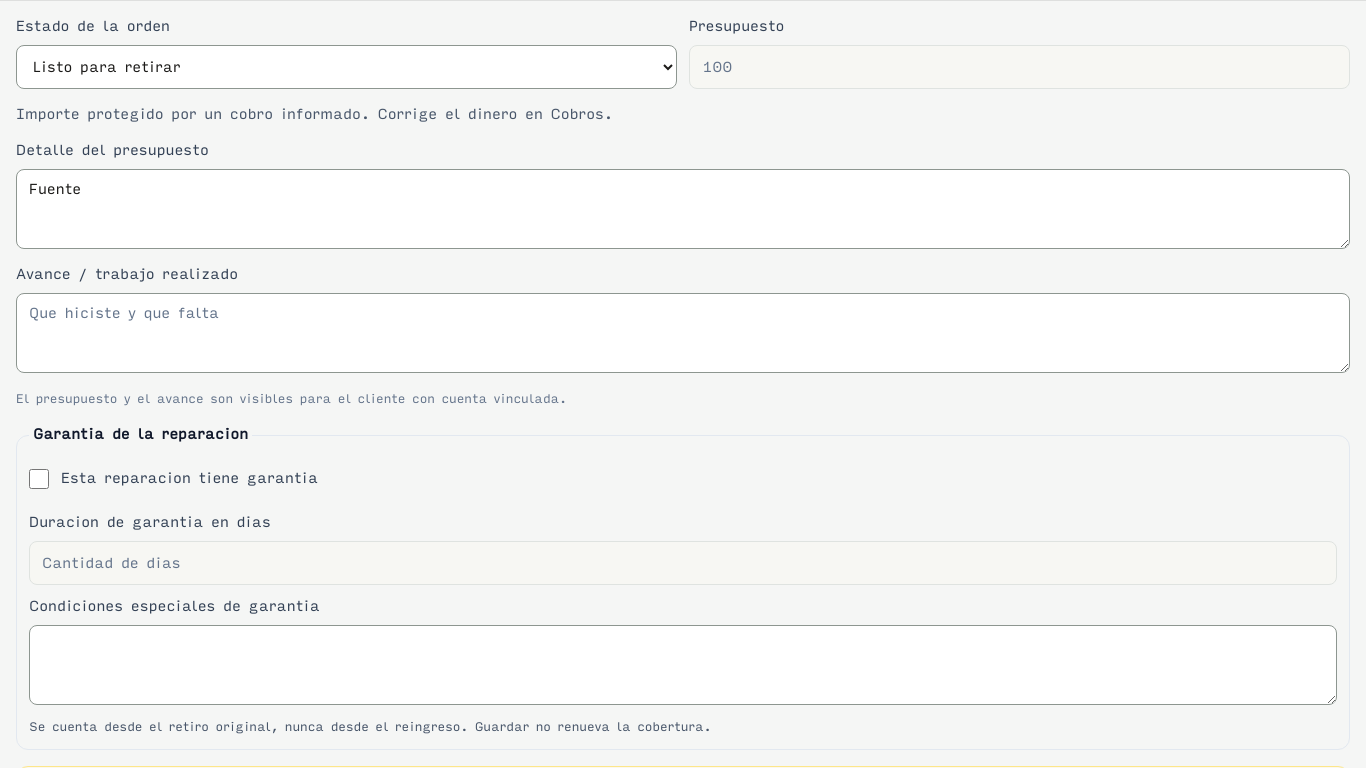
Test: editor unico de reparaciones › conserva persona, notas y confirmacion al salir y volver a la opcion de retiro
Select "Retirado por cliente" in the dropdown labelled "Estado de la orden" at (346, 67), box [16,45,677,89]
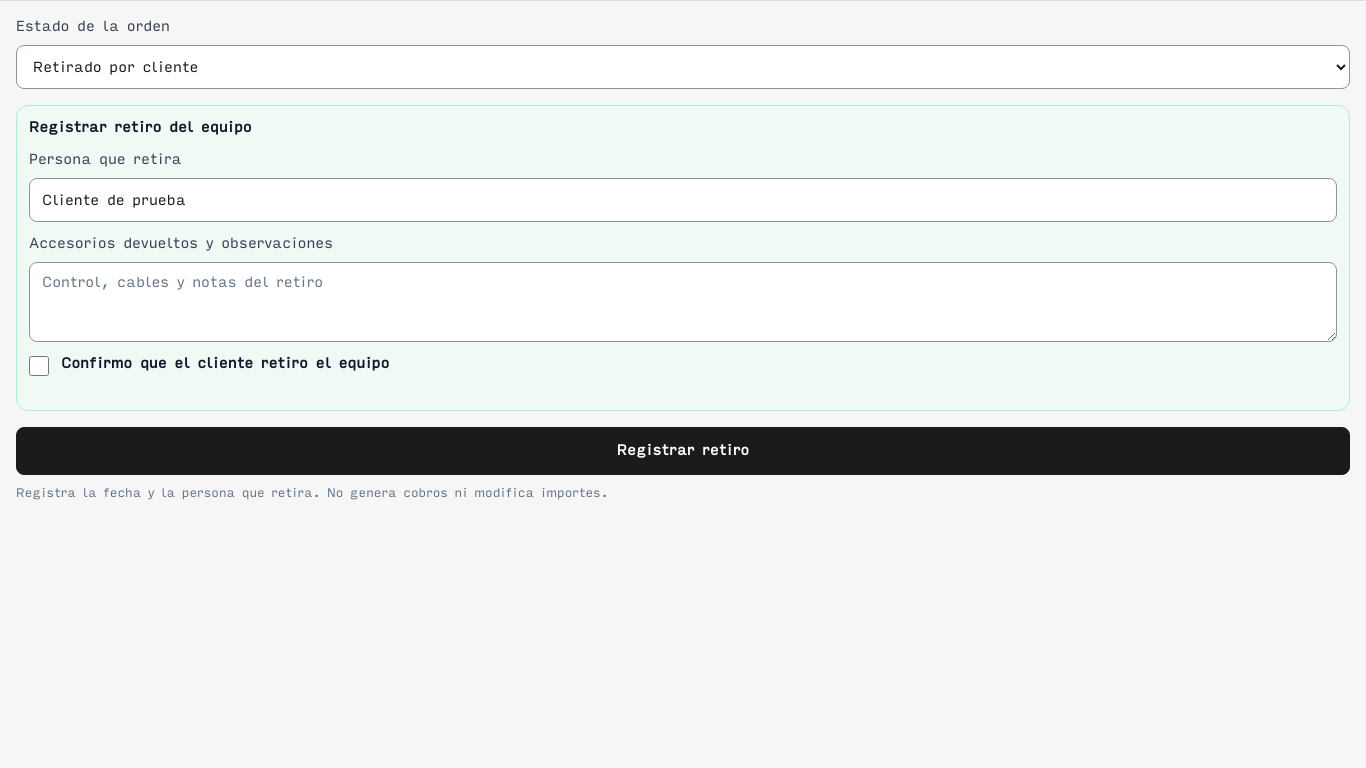
Replace the text in the field labelled "Persona que retira" with "Familiar autorizado" at (683, 200), box [29,178,1337,222]
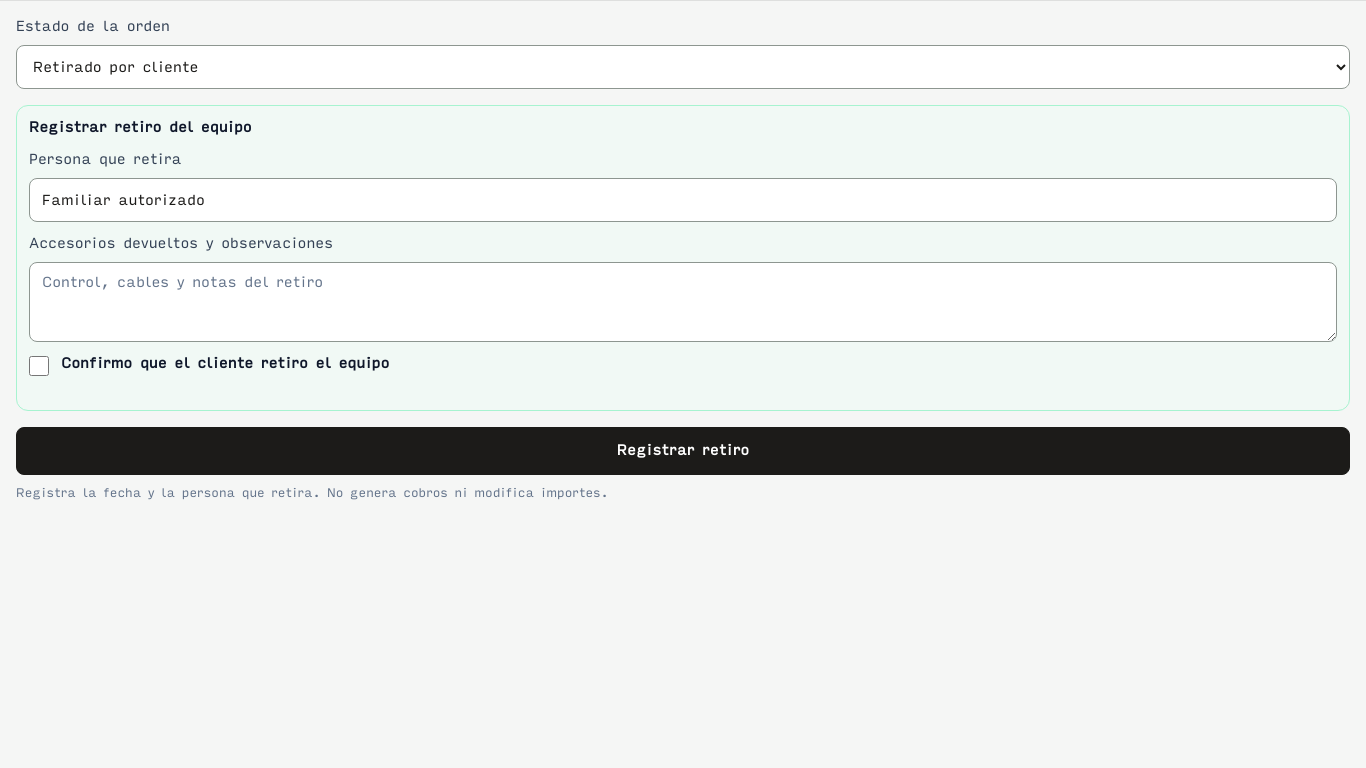
Type "Se devuelve control y cable" into the text box labelled "Accesorios devueltos y observaciones" at (683, 302), box [29,262,1337,342]
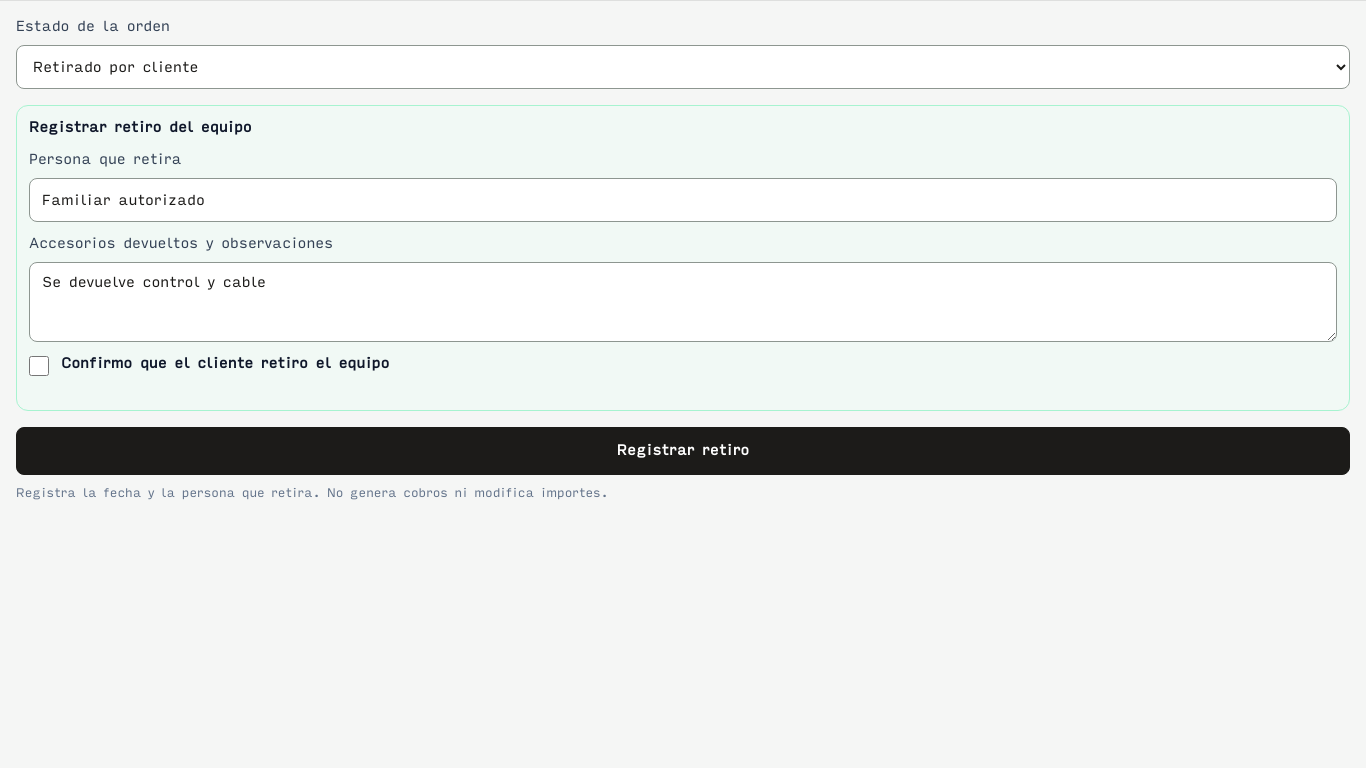
Click the checkbox labelled "Confirmo que el cliente retiro el equipo" at (39, 366), box [29,356,49,376]
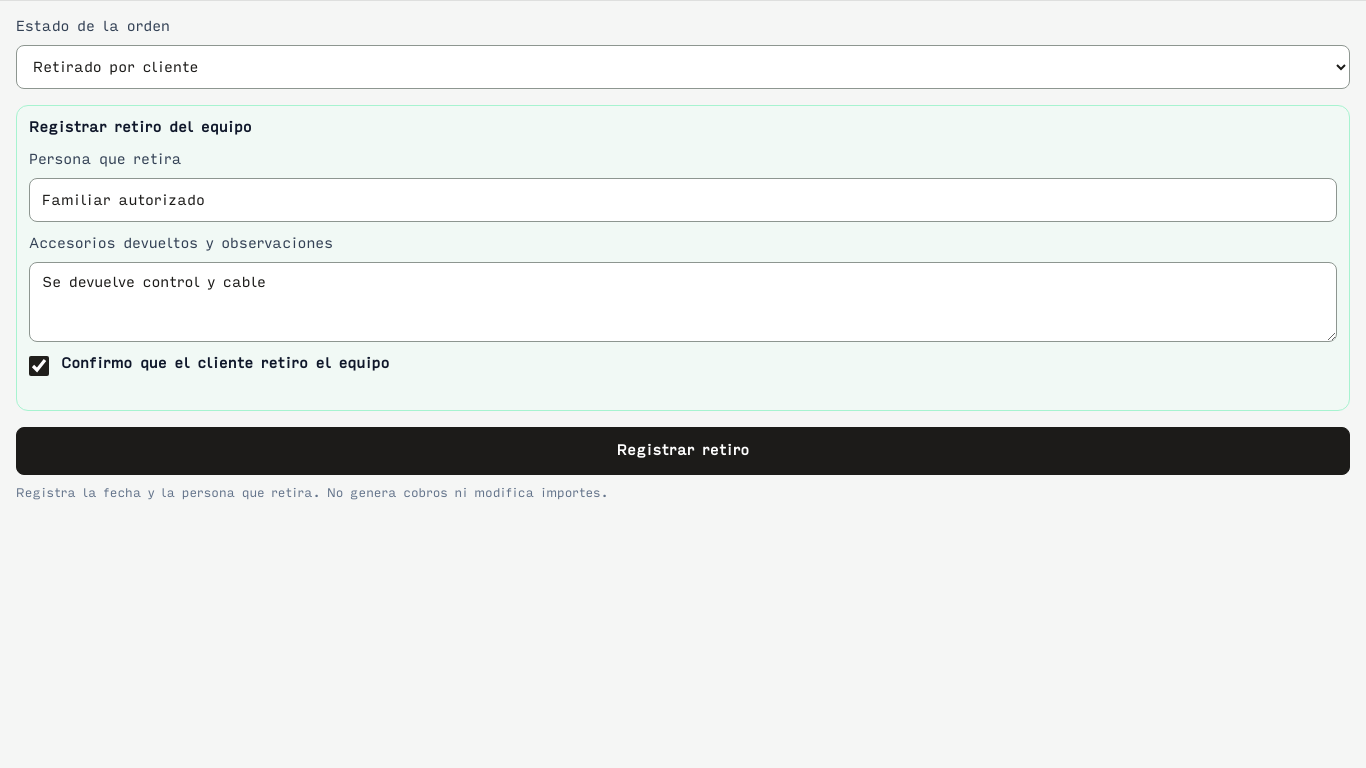
Select "Listo para retirar" in the dropdown labelled "Estado de la orden" at (683, 67), box [16,45,1350,89]
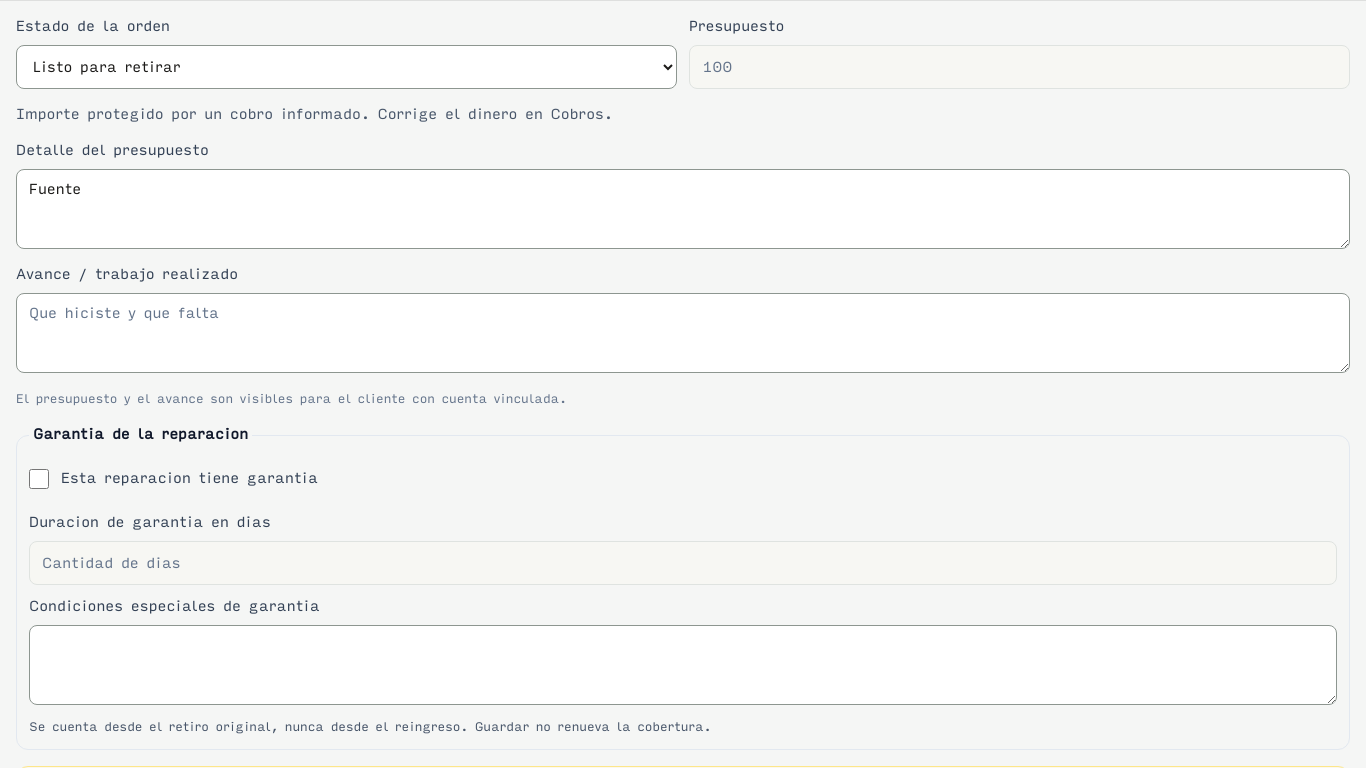
Select "Retirado por cliente" in the dropdown labelled "Estado de la orden" at (346, 67), box [16,45,677,89]
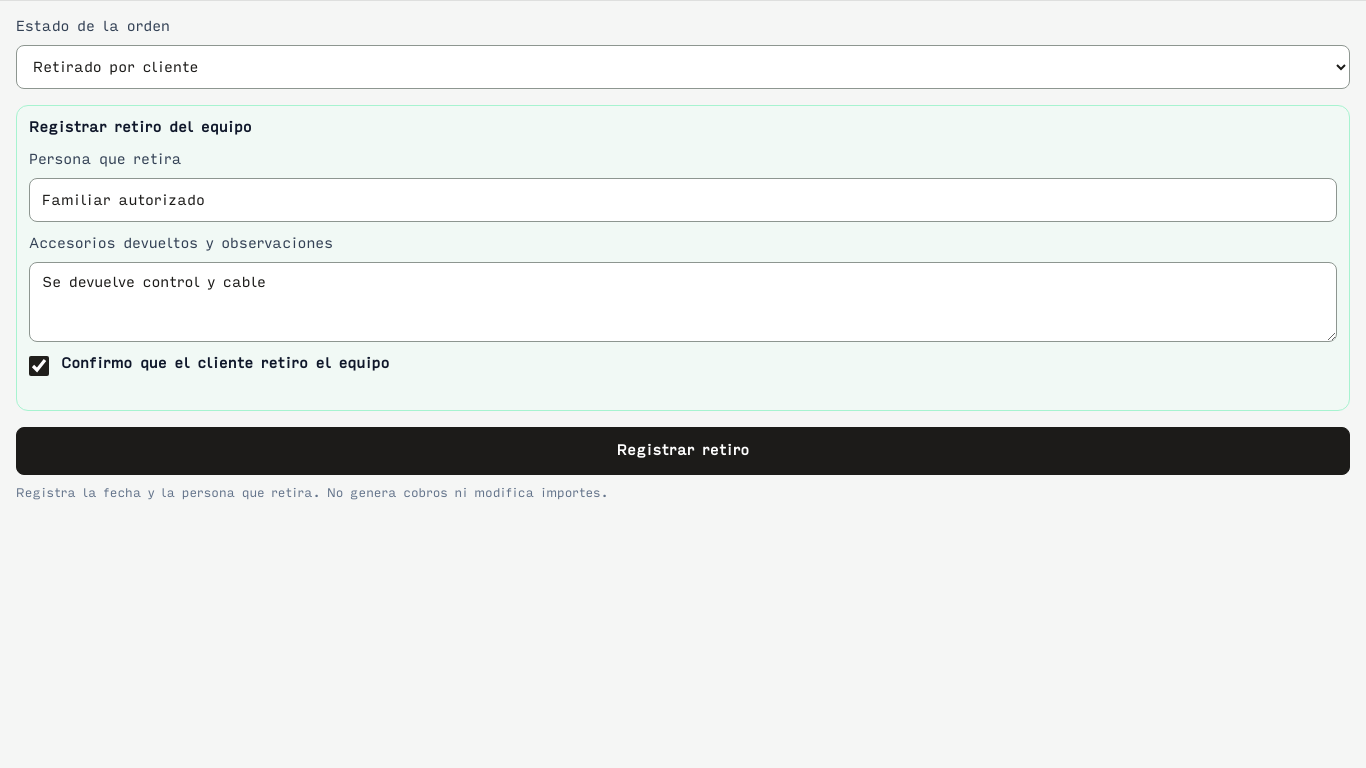
Expected: the field labelled "Persona que retira" holds "Familiar autorizado", [29,178,1337,222]
Expected: the text box labelled "Accesorios devueltos y observaciones" holds "Se devuelve control y cable", [29,262,1337,342]
Expected: the checkbox labelled "Confirmo que el cliente retiro el equipo" is checked, [29,356,49,376]
